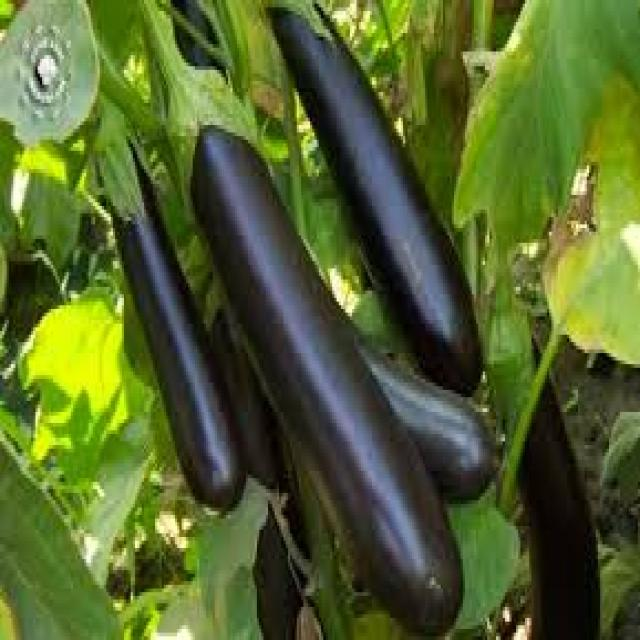eggplant: (188, 121, 463, 636), (98, 125, 244, 508)
